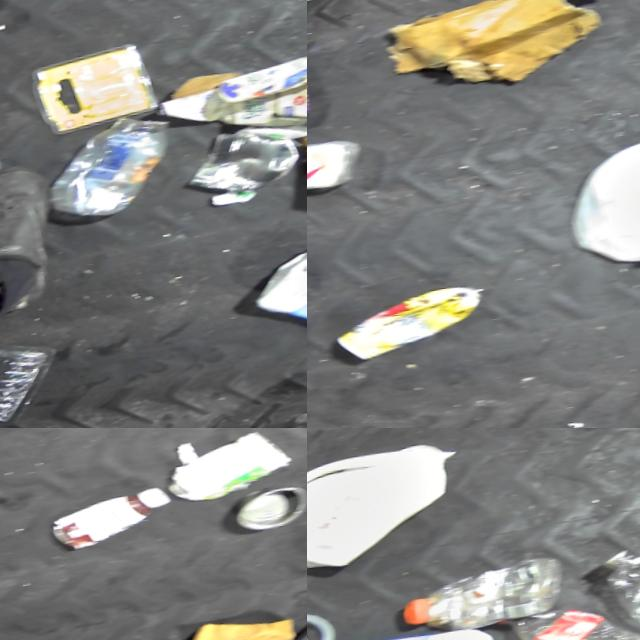can: (326, 283, 487, 367), (222, 485, 307, 545)
milk_jug: (307, 439, 469, 584), (557, 129, 640, 284)
non_white_jug: (240, 229, 307, 357)
plastic_bottle: (397, 558, 577, 640), (511, 604, 640, 640)
